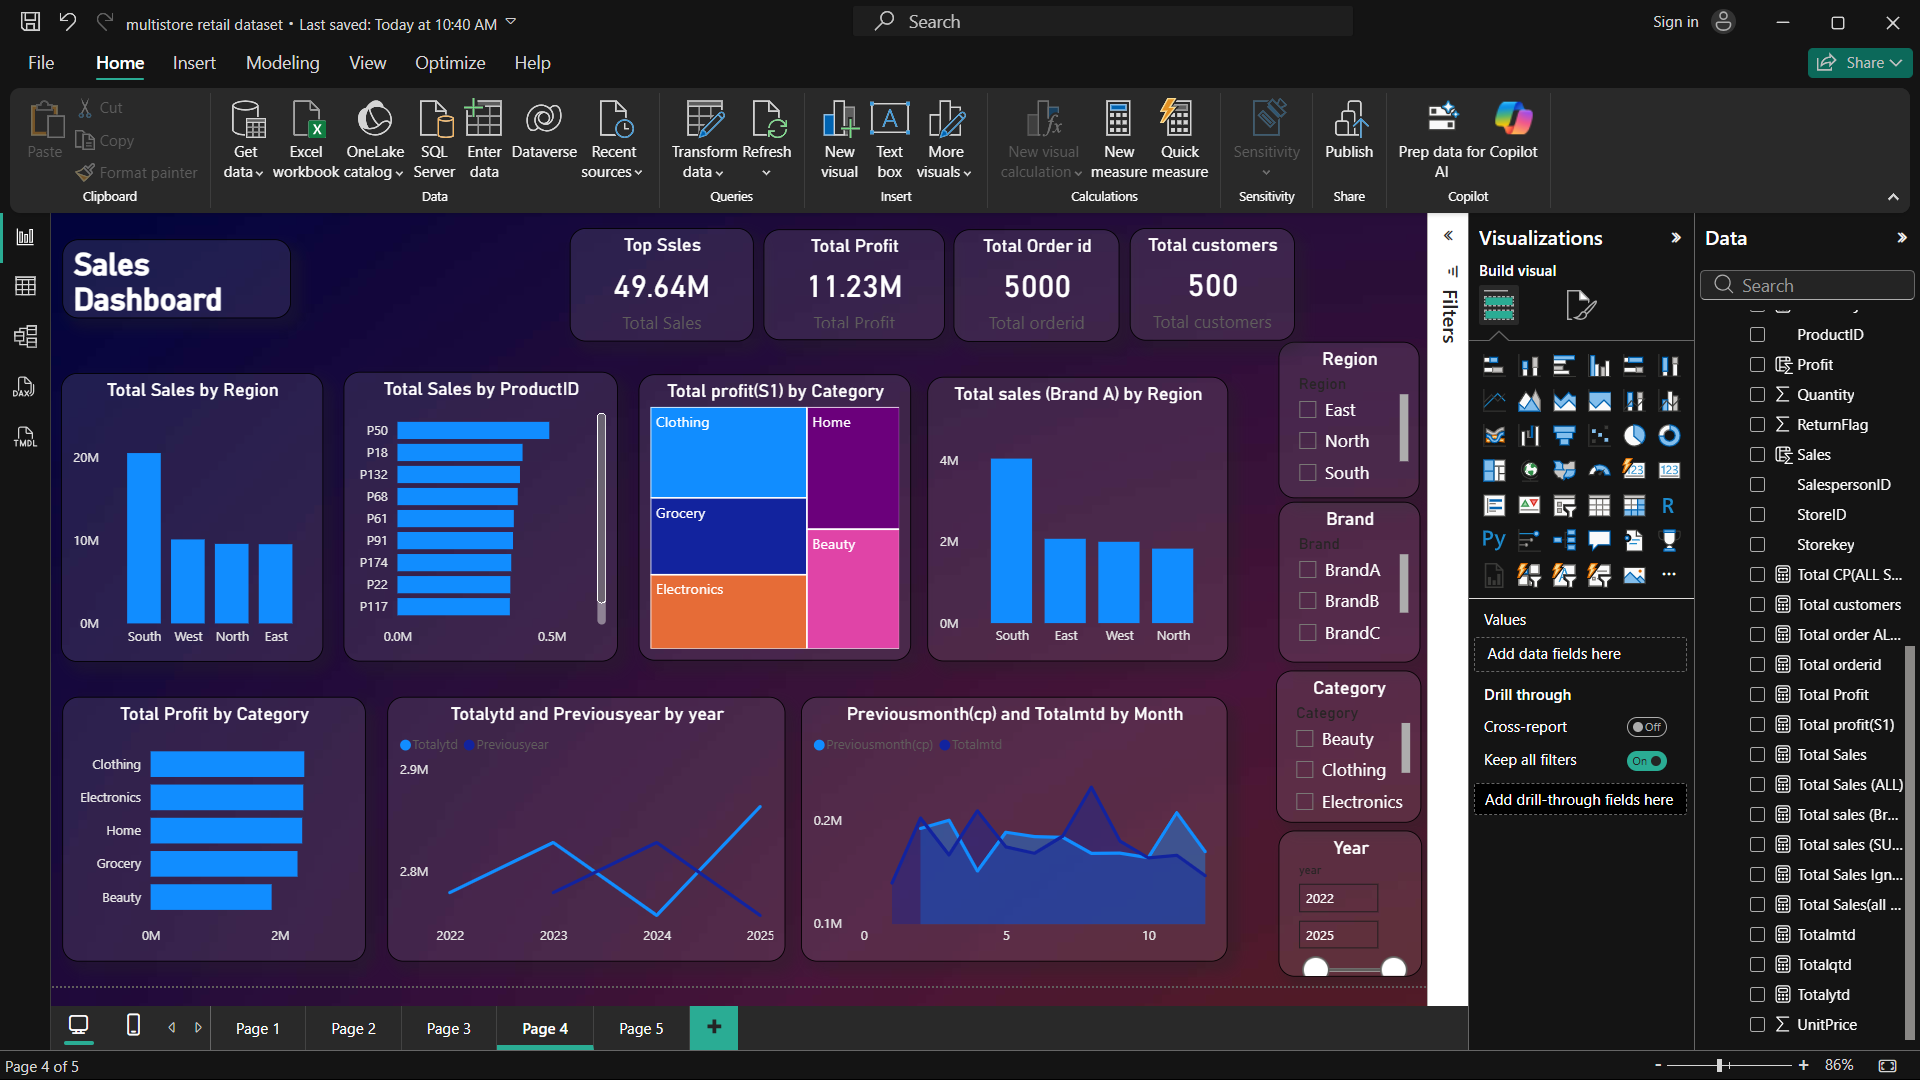

What the dashboard file says about the page in this screenshot:
{"tool":"powerbi","page":{"name":"Page 4","canvas":[1280,720],"ordinal":3},"visuals":[{"type":"columnChart","fields":{"Y":["Fact sales.Total Sales"],"Category":["Dim customer.Region"]},"box":[9.4,148.4,243.8,268.8],"z":0},{"type":"clusteredBarChart","fields":{"Category":["Dim product.Category"],"Y":["Fact sales.Total Profit"]},"box":[10,450.3,282.4,246.3],"z":1000},{"type":"barChart","fields":{"Category":["Dim product.ProductID"],"Y":["Fact sales.Total Sales"]},"box":[272.4,148,255,269.9],"z":2000},{"type":"columnChart","fields":{"Category":["Dim customer.Region"],"Y":["Fact sales.Total sales (Brand A)"]},"box":[814.8,151.8,279.9,265],"z":3000},{"type":"treemap","fields":{"Group":["Dim product.Category"],"Values":["Fact sales.Total profit(S1)"]},"box":[546.1,150.5,253.8,266.2],"z":4000},{"type":"lineChart","fields":{"Category":["Dim calender.year"],"Y":["Fact sales.Totalytd","Fact sales.Previousyear"]},"box":[312.2,450.3,370.7,246.3],"z":5000},{"type":"areaChart","fields":{"Category":["Dim calender.Month"],"Y":["Fact sales.Previousmonth(cp)","Fact sales.Totalmtd"]},"box":[697.9,450.3,396.8,246.3],"z":6000},{"type":"slicer","title":"Region","fields":{"Values":["Dim customer.Region"]},"box":[1132.6,242.4,135.5,144.7],"z":7000},{"type":"slicer","title":"Brand","fields":{"Values":["Dim product.Brand"]},"box":[1132.6,396.5,136,148.8],"z":8000},{"type":"slicer","title":"Category","fields":{"Values":["Dim product.Category"]},"box":[1132.6,554.7,136,141.9],"z":9000},{"type":"slicer","title":"Year","fields":{"Values":["Dim calender.year"]},"box":[1132.6,88.4,136,144.2],"z":10000},{"type":"textbox","title":"Sales Dashboard","box":[10.3,25.3,212.5,80.4],"z":11000},{"type":"card","title":"Top Ssles","fields":{"Values":["Fact sales.Total Sales"]},"box":[358.4,17.2,179.2,105.7],"z":11001},{"type":"card","title":"Total Profit","fields":{"Values":["Fact sales.Total Profit"]},"box":[546.5,17.4,168.6,103.5],"z":11002},{"type":"card","title":"Total Order id","fields":{"Values":["Fact sales.Total orderid"]},"box":[722.5,17.2,164.3,104.5],"z":11003},{"type":"card","title":"Total customers","fields":{"Values":["Fact sales.Total customers"]},"box":[896,18.4,168.9,104.5],"z":11004}]}

Visuals, with their boxes on the page's 1280x720 design canvas (x1, y1, x2, y2). These are canvas units, not pixel positions in the 1920x1080 screenshot, which may show the page scaled, cropped or inside an application window:
columnChart - Fact sales.Total Sales x Dim customer.Region: crop(9, 148, 253, 417)
clusteredBarChart - Dim product.Category x Fact sales.Total Profit: crop(10, 450, 292, 697)
barChart - Dim product.ProductID x Fact sales.Total Sales: crop(272, 148, 527, 418)
columnChart - Dim customer.Region x Fact sales.Total sales (Brand A): crop(815, 152, 1095, 417)
treemap - Dim product.Category x Fact sales.Total profit(S1): crop(546, 150, 800, 417)
lineChart - Dim calender.year x Fact sales.Totalytd: crop(312, 450, 683, 697)
areaChart - Dim calender.Month x Fact sales.Previousmonth(cp): crop(698, 450, 1095, 697)
"Region" slicer: crop(1133, 242, 1268, 387)
"Brand" slicer: crop(1133, 396, 1269, 545)
"Category" slicer: crop(1133, 555, 1269, 697)
"Year" slicer: crop(1133, 88, 1269, 233)
"Sales Dashboard" textbox: crop(10, 25, 223, 106)
"Top Ssles" card: crop(358, 17, 538, 123)
"Total Profit" card: crop(546, 17, 715, 121)
"Total Order id" card: crop(722, 17, 887, 122)
"Total customers" card: crop(896, 18, 1065, 123)
